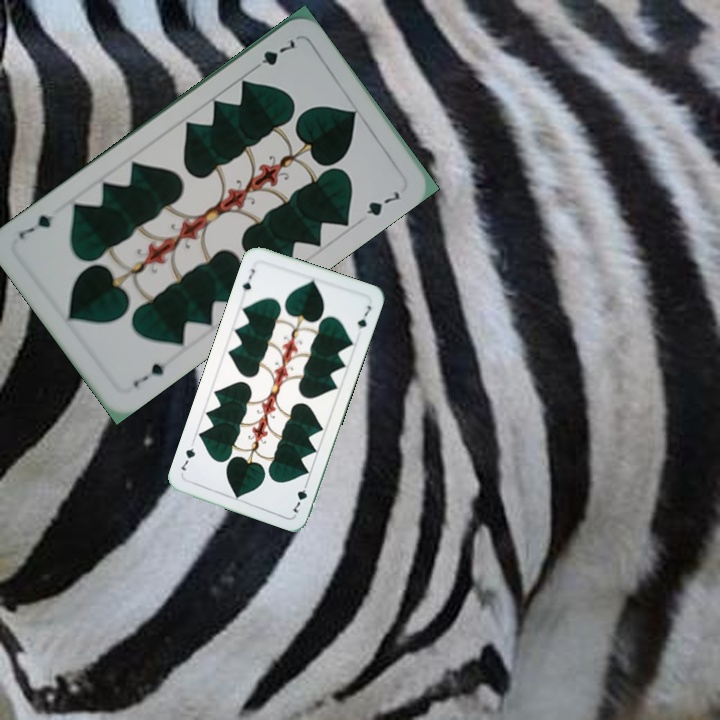G7: (247, 35, 298, 74), (129, 359, 168, 391), (288, 477, 311, 516), (238, 264, 257, 294)
